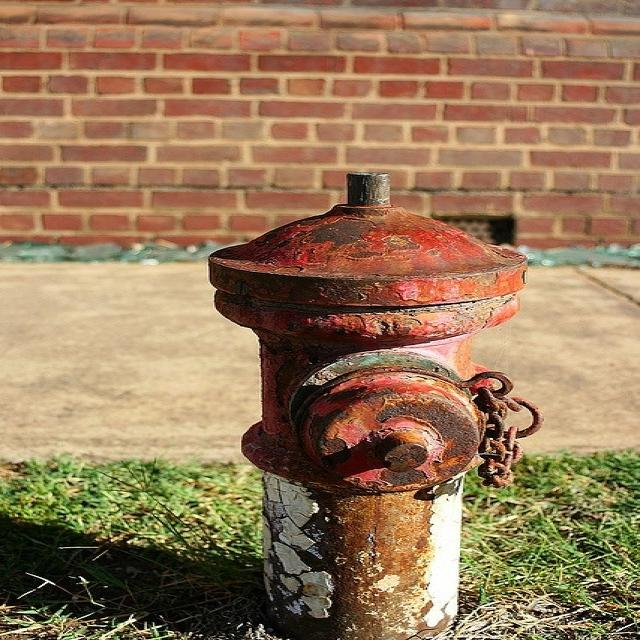fire_hydrant: (152, 203, 557, 633)
